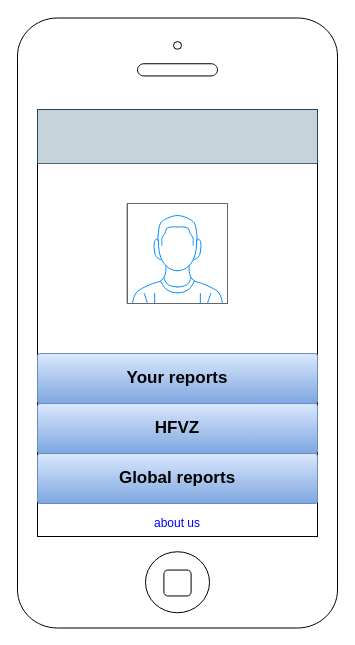
The diagram is 355 pixels wide and 645 high, and some of its shapes have lost their labels. The centre of each missing label's shape, as x and y in pixels:
Mario Rossi: pixel 177 253
Statistics: pixel 177 136
